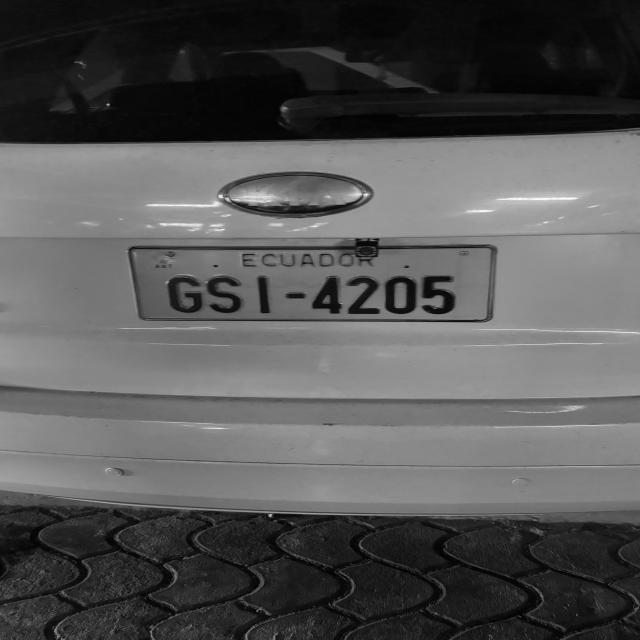Placa: (131, 247, 494, 321)
